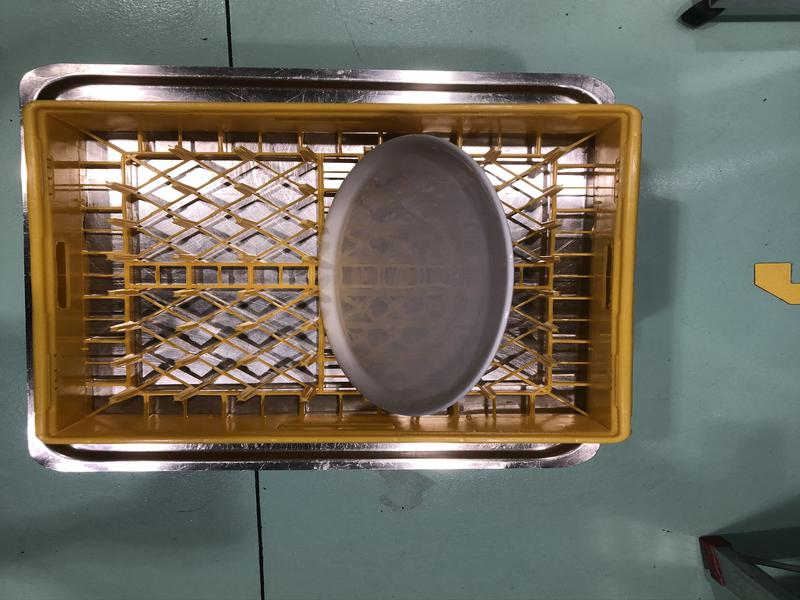Dish: (318, 133, 511, 417)
